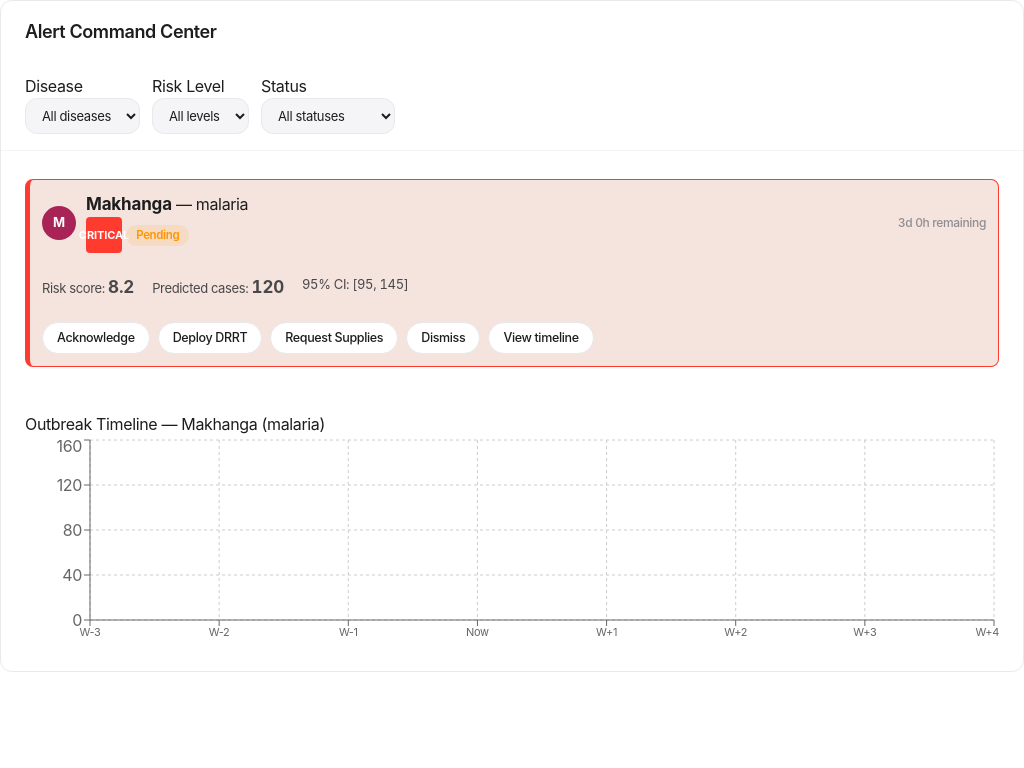
Scenario: AlertCommandCenter › offers undo after dismissing an alert
Click the button "Dismiss" at (443, 338), box [406,322,480,354]
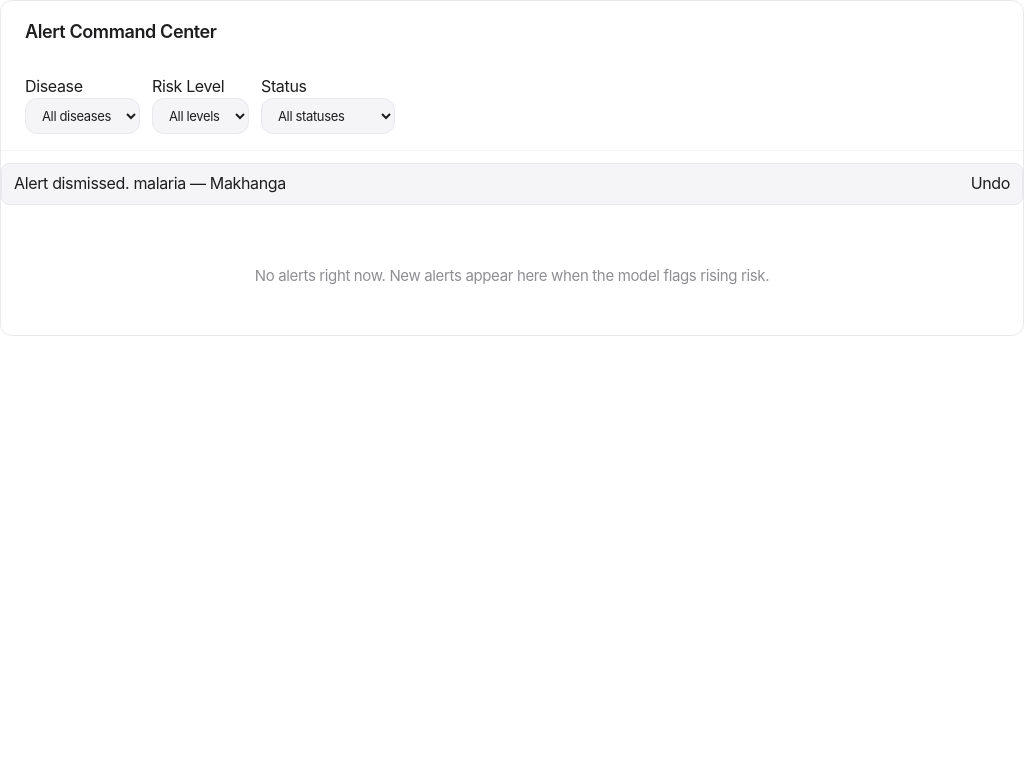
Click the button "Undo" at (990, 184), box [971,172,1010,196]
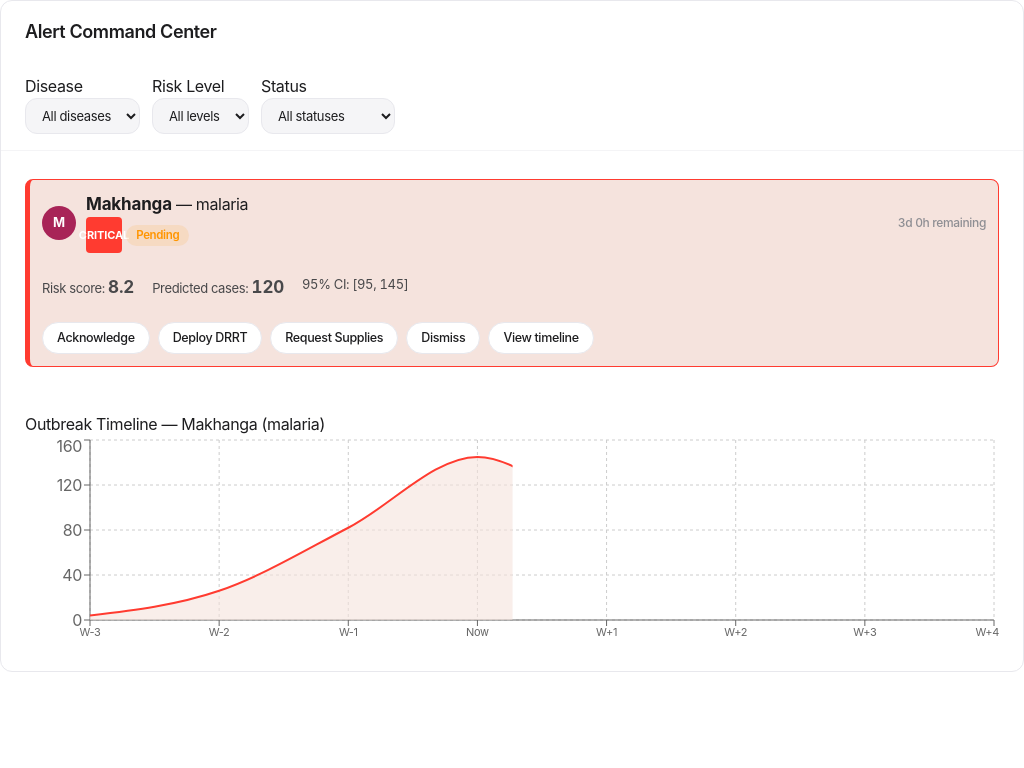
Expected: the text "Makhanga" is shown, [86,194,172,214]
Expected: the button "Undo" is gone
